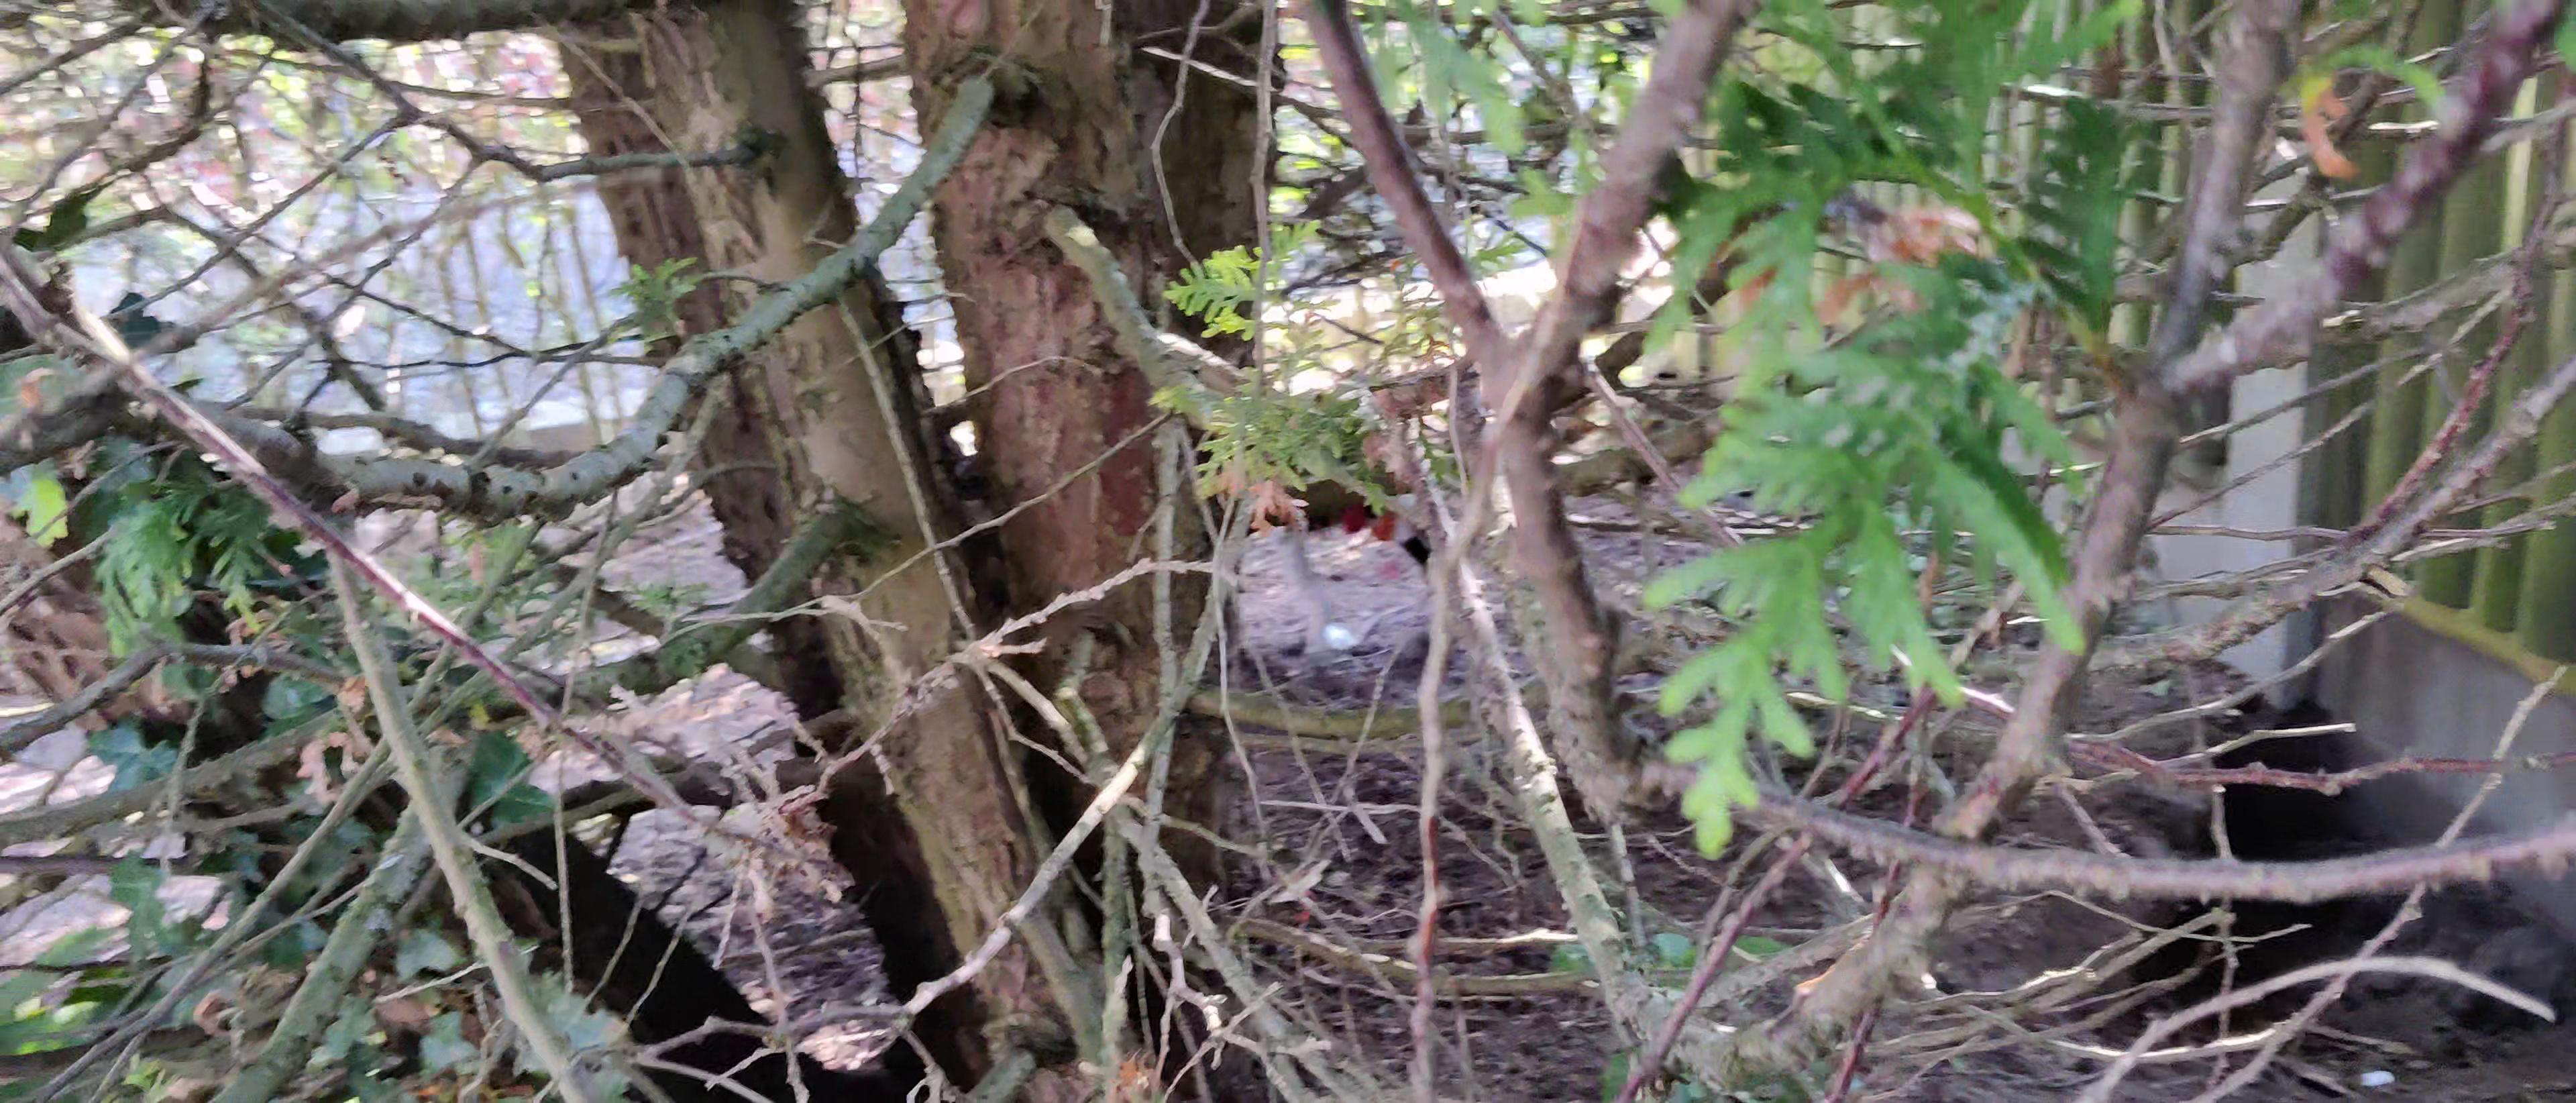Dog: (1219, 454, 1444, 659)
